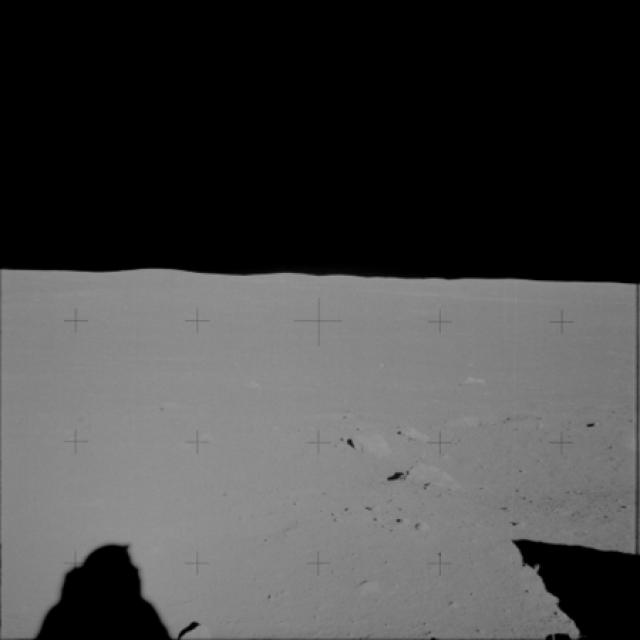crater: (448, 407, 542, 435)
rock: (386, 458, 459, 496), (333, 430, 385, 456), (394, 417, 428, 444)
